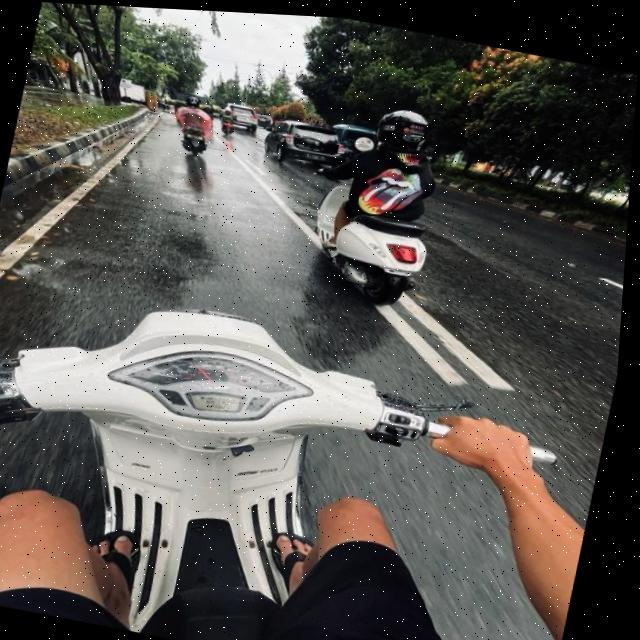car: (257, 109, 353, 180), (216, 96, 266, 139)
motorcycle: (0, 275, 594, 640), (294, 150, 449, 320)
